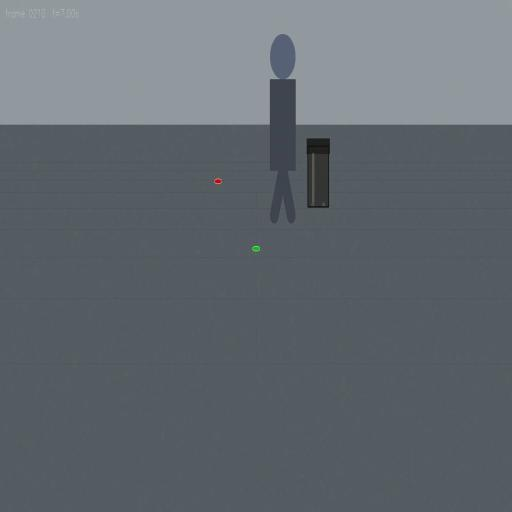bin: (306, 137, 331, 209)
